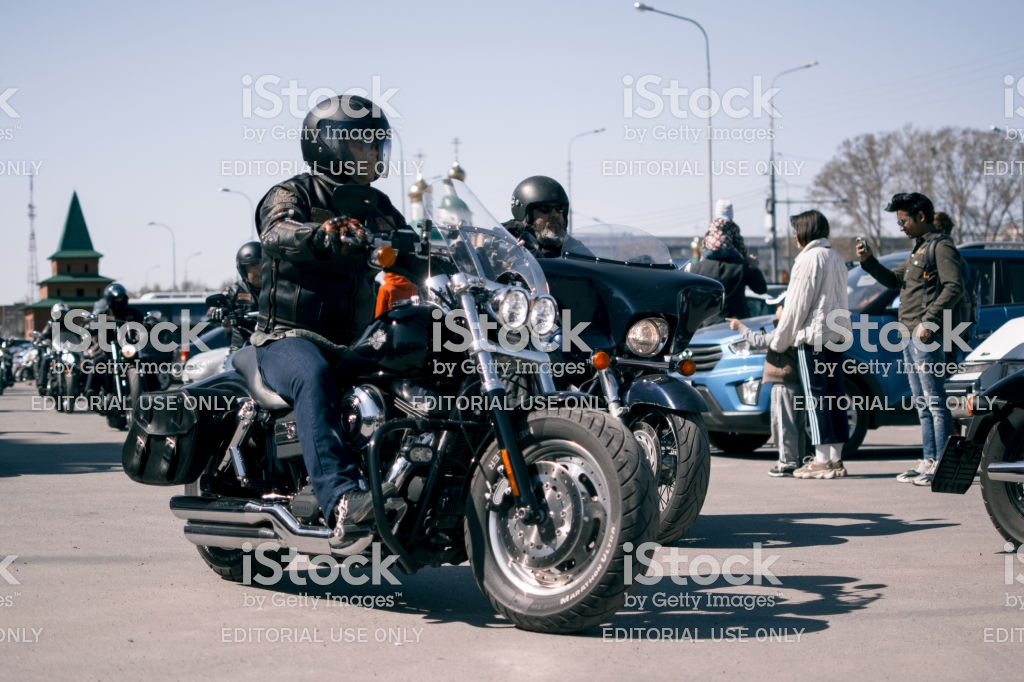helmet: (294, 92, 405, 188), (513, 175, 572, 227)
